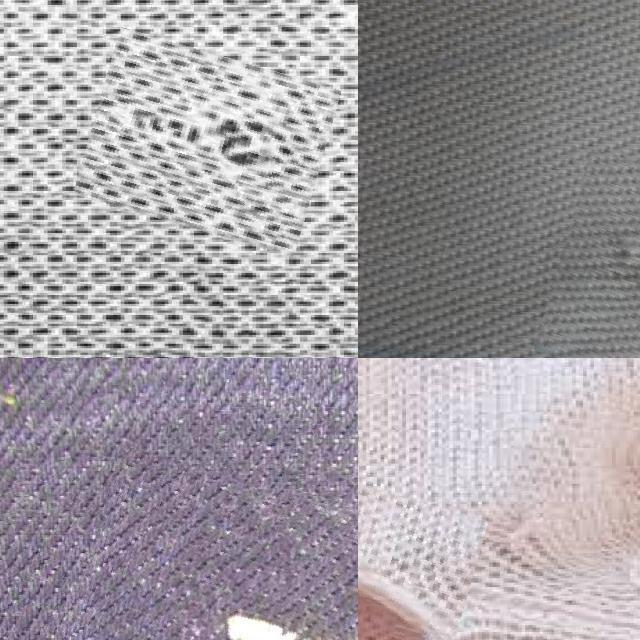other: (81, 41, 331, 243), (358, 458, 473, 640)
stains: (43, 471, 358, 640), (546, 156, 640, 358)
